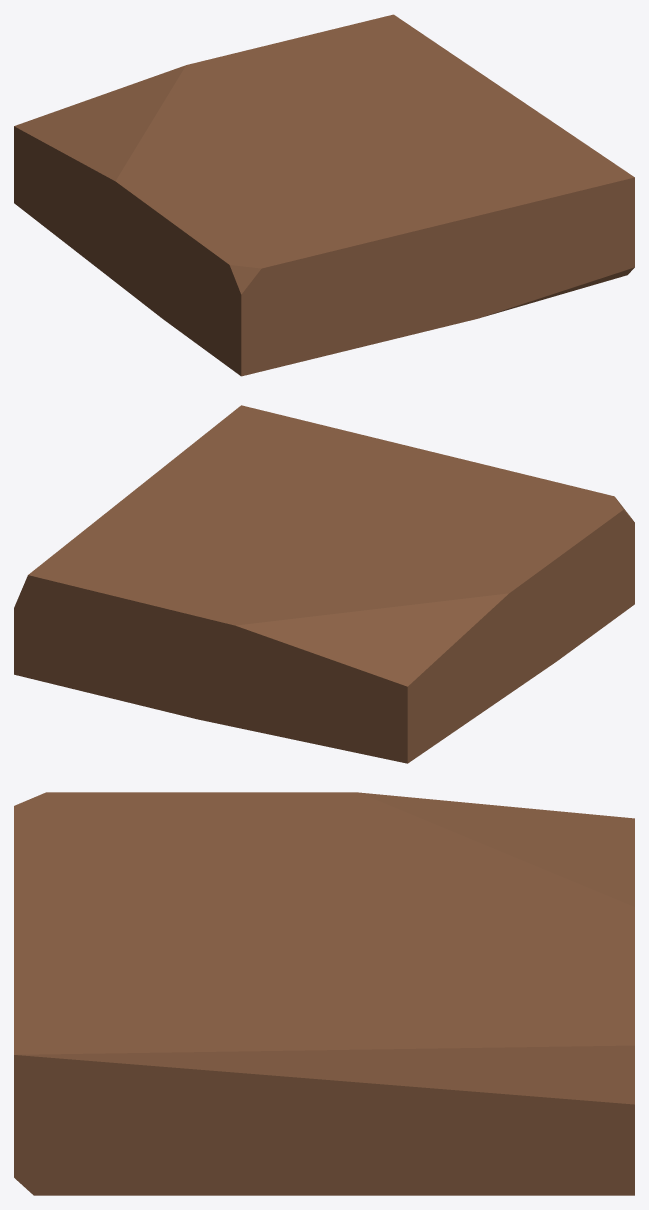
Rendered from Monument_011.FBX.
3 views of the same model, one above another, from view 1: azimuth 30°, elevation 25°; view 2: azimuth 150°, elevation 25°; view 3: azimuth 270°, elevation 25° (orthographic). The views are drawn at different scales.
Parts seen in each view (by area): view 1: Monument_011; view 2: Monument_011; view 3: Monument_011.
Part boxes in pixels (x1=…): Monument_011: x1=14, y1=14, x2=634, y2=376; Monument_011: x1=14, y1=405, x2=634, y2=763; Monument_011: x1=14, y1=792, x2=634, y2=1195.
Bounding box in the file's own units: 78.74 × 19.69 × 78.74.
